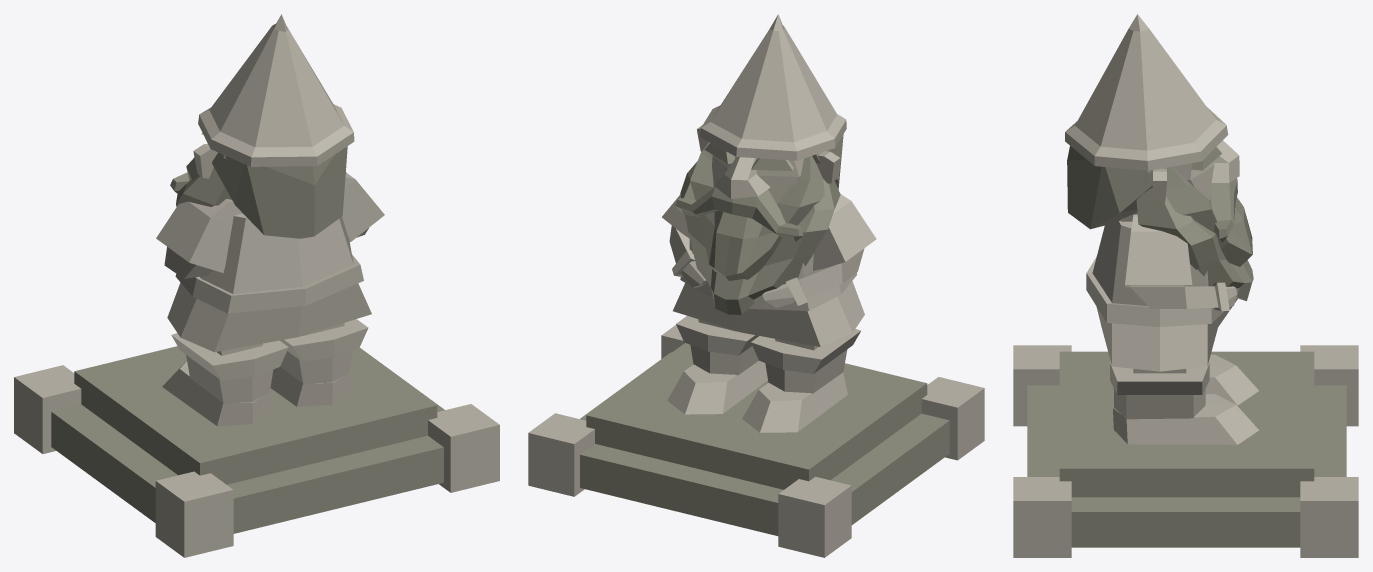
Rendered from statue_gnome.fbx.
The picture shows the model from 3 angles, left to right: view 1: azimuth 30°, elevation 25°; view 2: azimuth 150°, elevation 25°; view 3: azimuth 270°, elevation 25°; orthographic projection. The views are drawn at different scales.
Parts seen in each view (by area): view 1: polySurface1087; view 2: polySurface1087; view 3: polySurface1087.
Part boxes in pixels (box(x1,y1,x2,y2)): polySurface1087: box(14, 14, 499, 557); polySurface1087: box(528, 14, 984, 557); polySurface1087: box(1013, 14, 1358, 557).
Bounding box in the file's own units: 81.31 × 113 × 76.06.
Materials: 1 (1 with a texture image).
